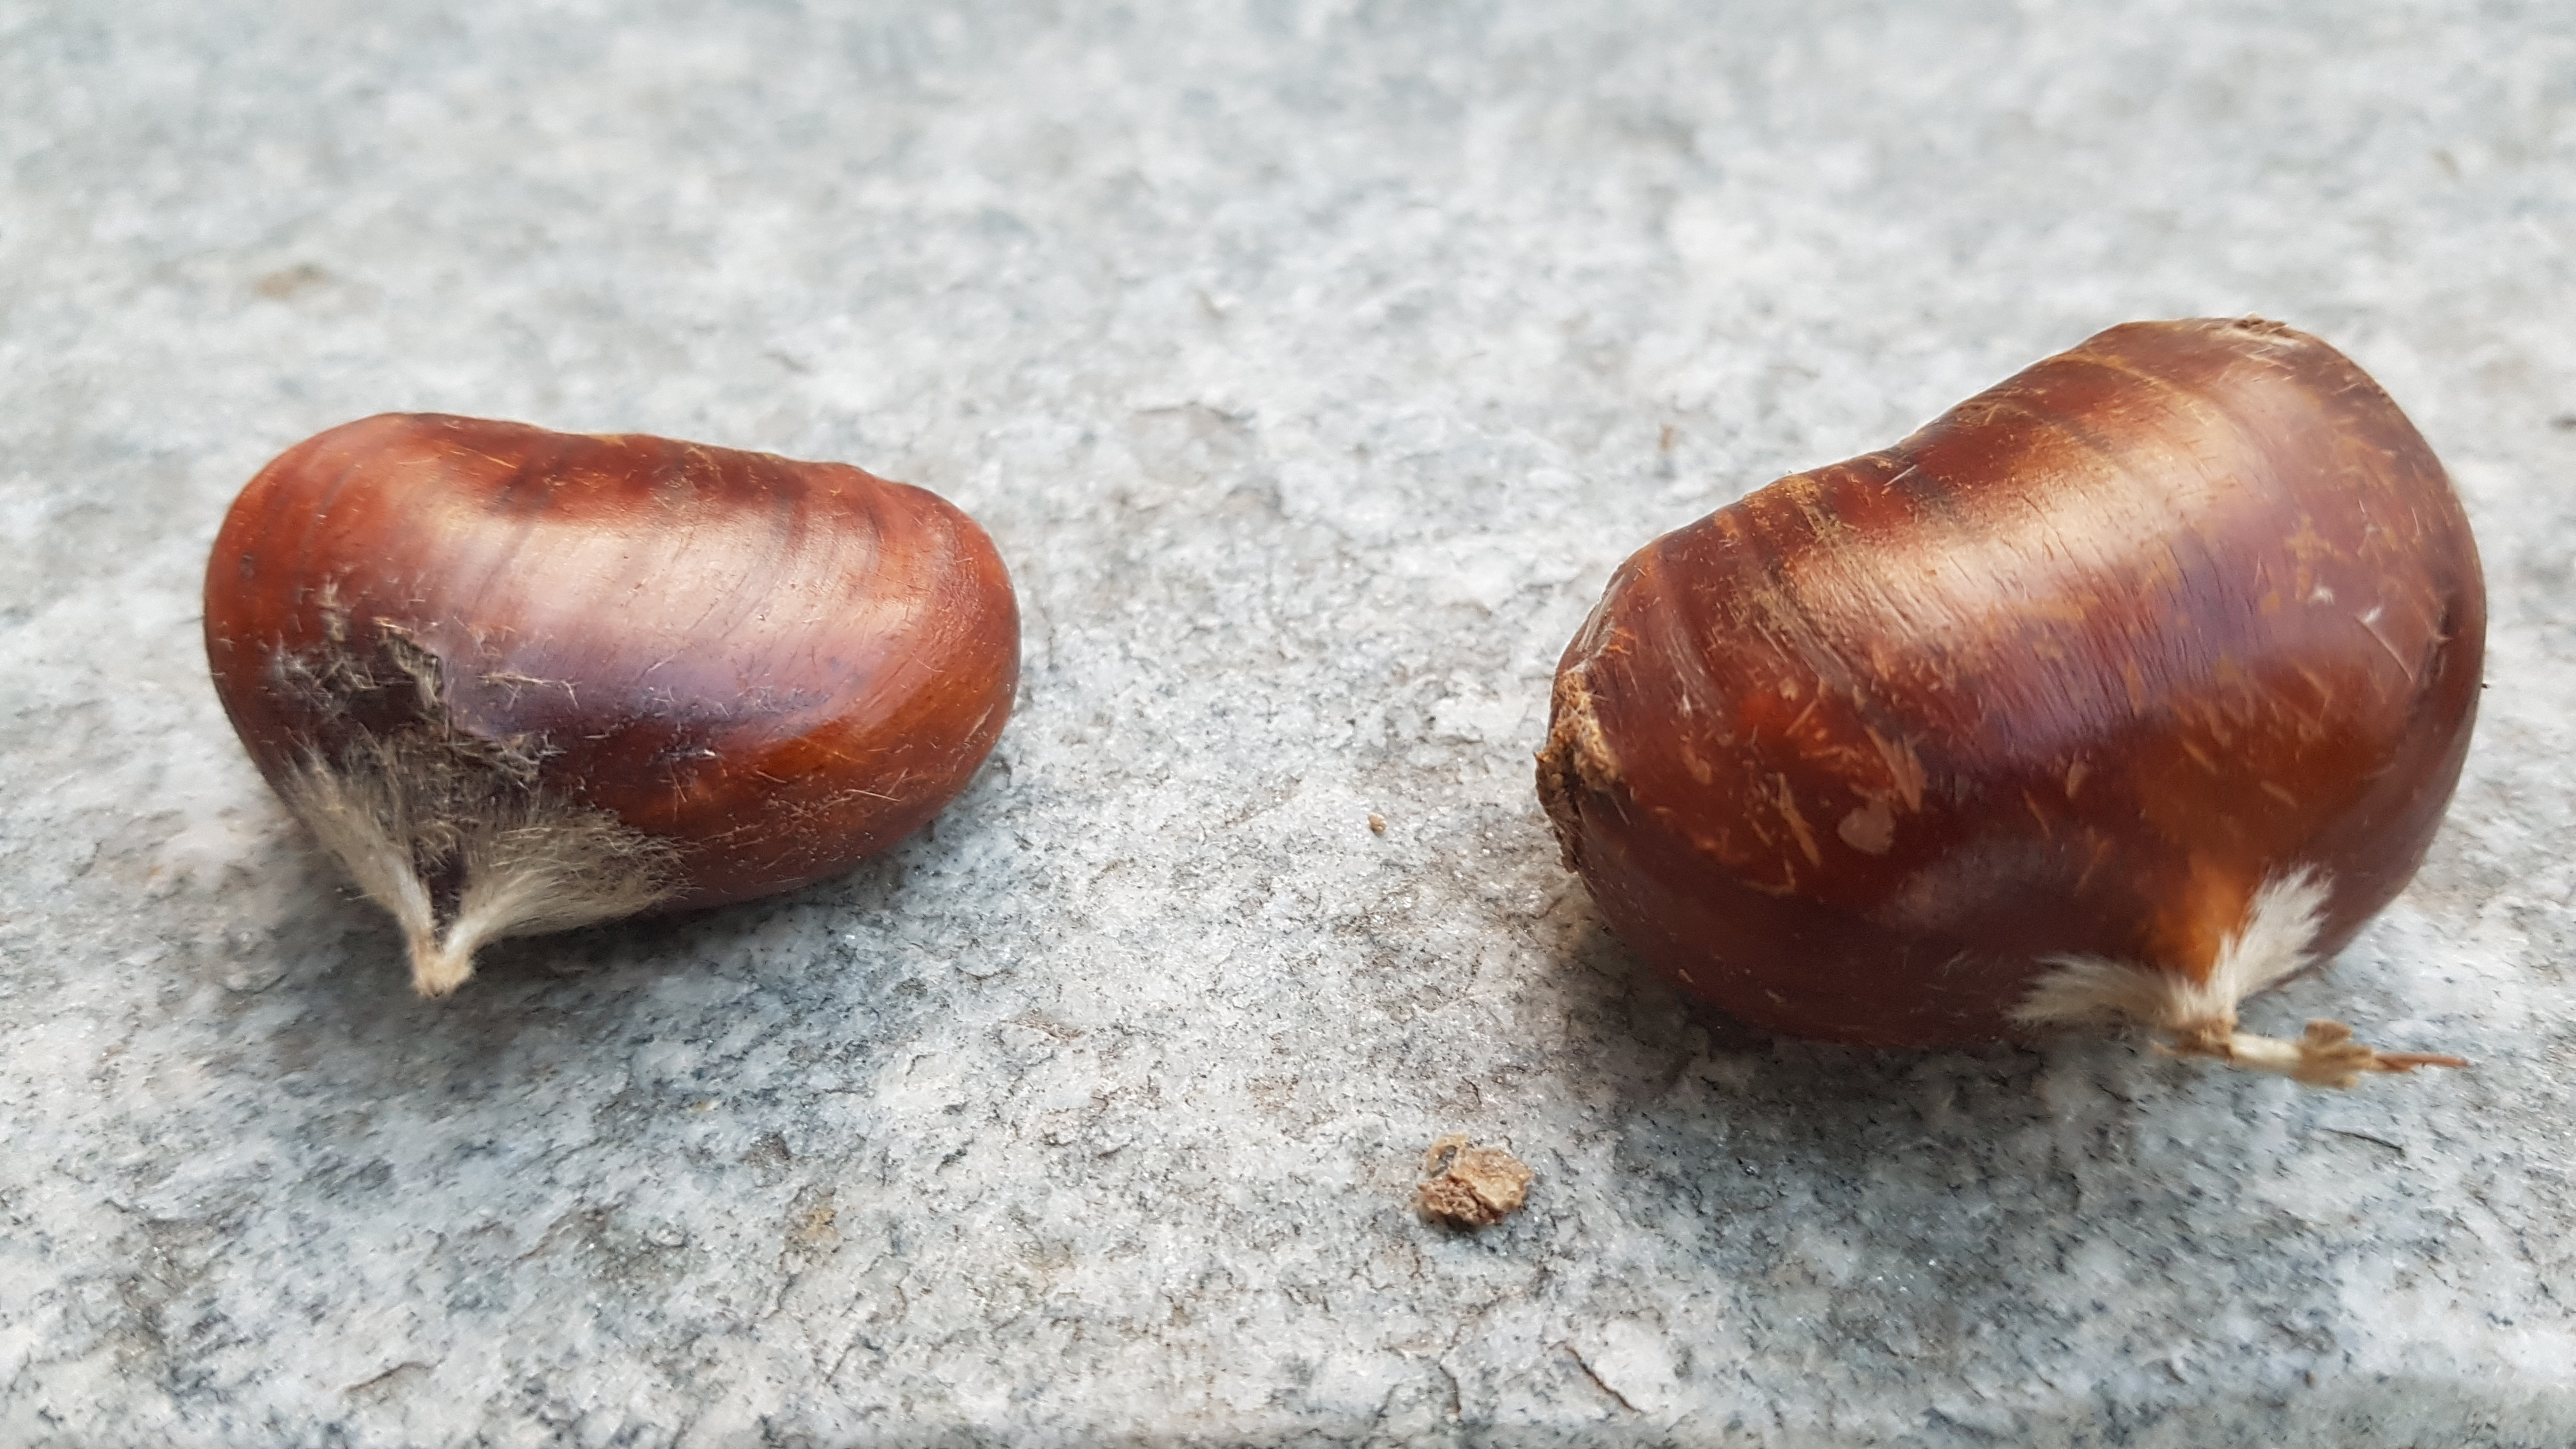camola: (237, 566, 442, 771)
